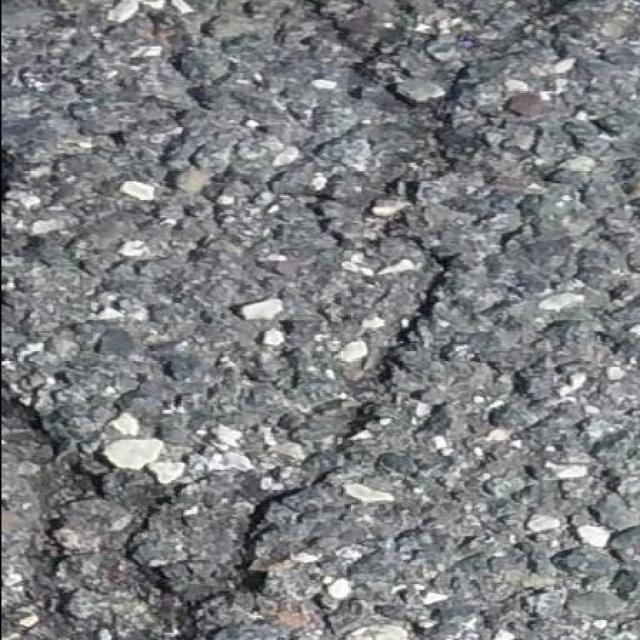Crack: (0, 216, 462, 640), (384, 71, 485, 202), (308, 4, 385, 96), (264, 132, 348, 192), (308, 174, 359, 251), (1, 151, 9, 202)
